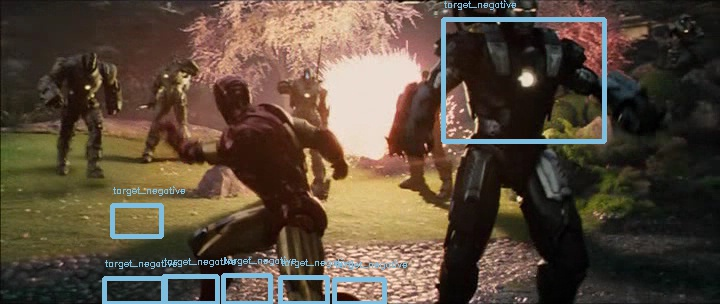person: (210, 71, 249, 117), (209, 71, 248, 117), (211, 71, 250, 117), (210, 70, 249, 116), (210, 72, 249, 118)
target_negative: (233, 15, 478, 279), (319, 12, 588, 247), (422, 140, 633, 253), (52, 88, 567, 131), (578, 14, 607, 126), (474, 61, 559, 90)
